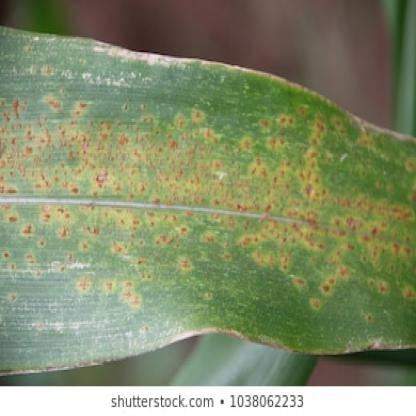corn rust leaf: (1, 25, 415, 382)
